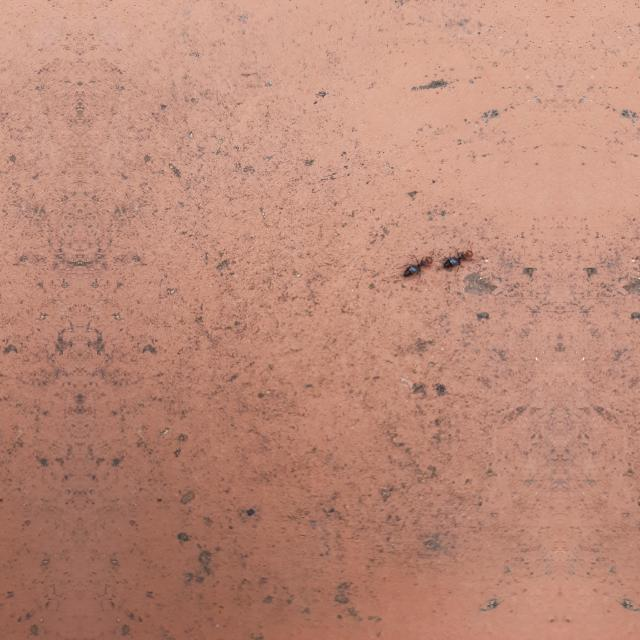Crematogaster: (441, 243, 475, 275), (401, 250, 433, 280)
